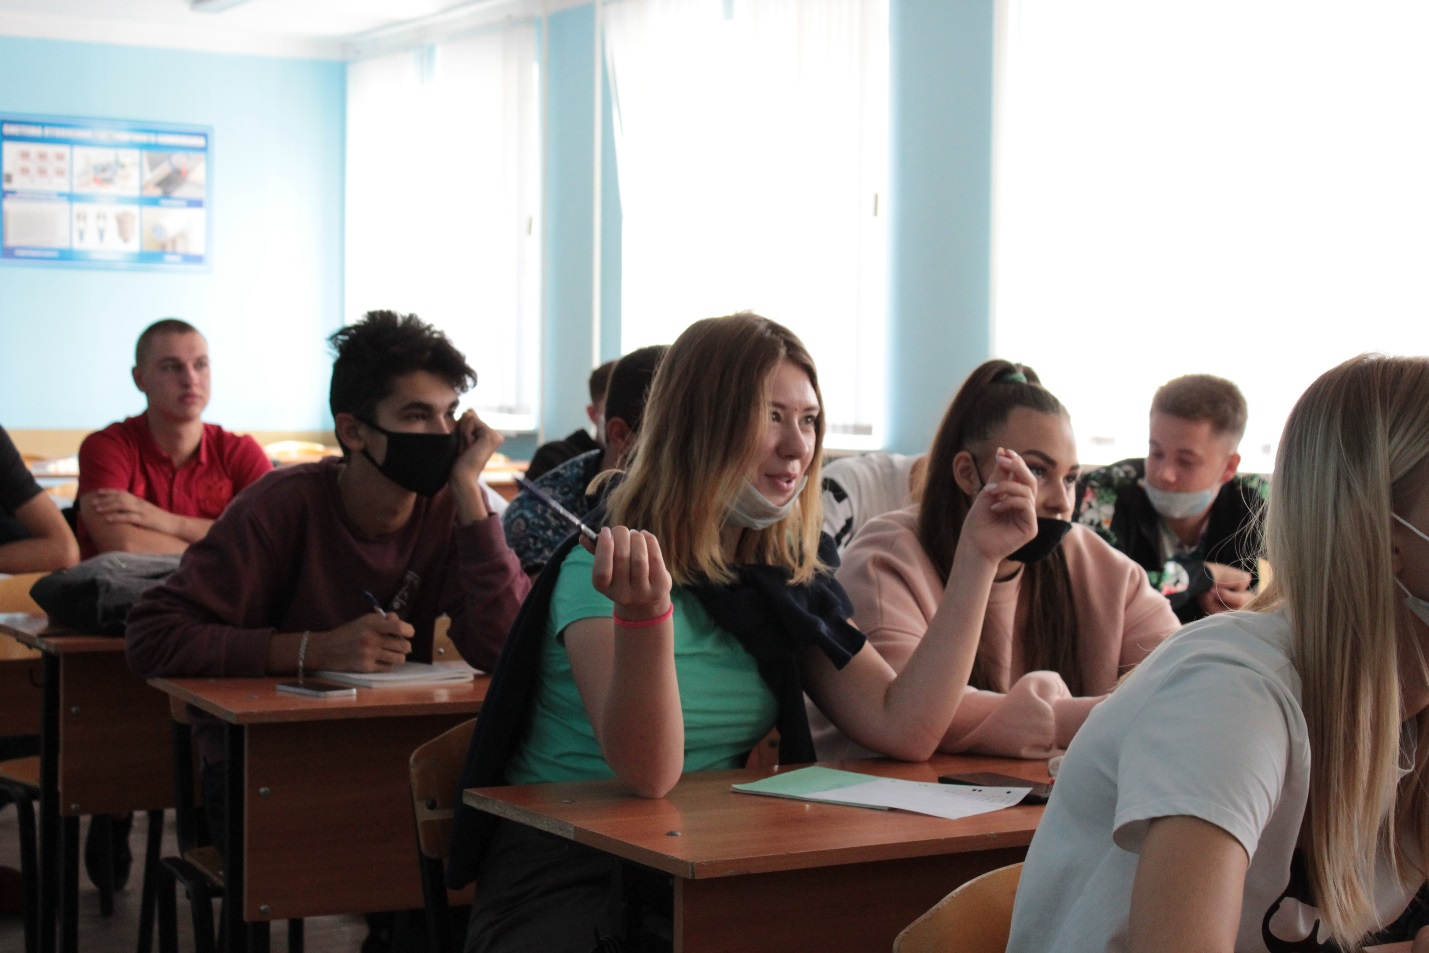students: (465, 312, 1038, 796), (1006, 353, 1429, 947), (130, 310, 537, 670), (837, 360, 1182, 759), (78, 317, 277, 564), (1072, 375, 1271, 614), (505, 343, 679, 588), (522, 357, 619, 484)
